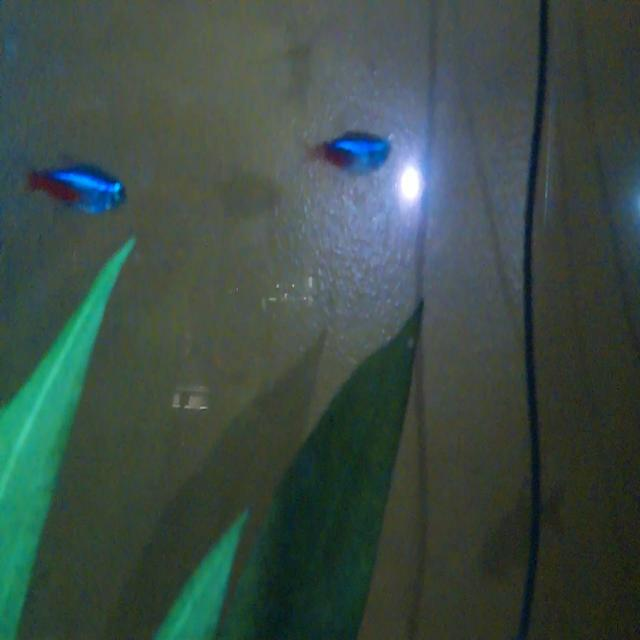fish: (27, 142, 132, 220), (295, 110, 397, 183)
